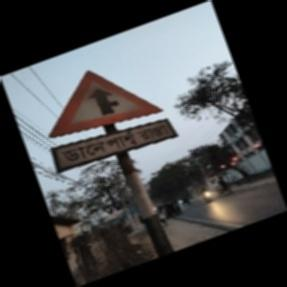Side-road-right: (47, 69, 174, 173)
